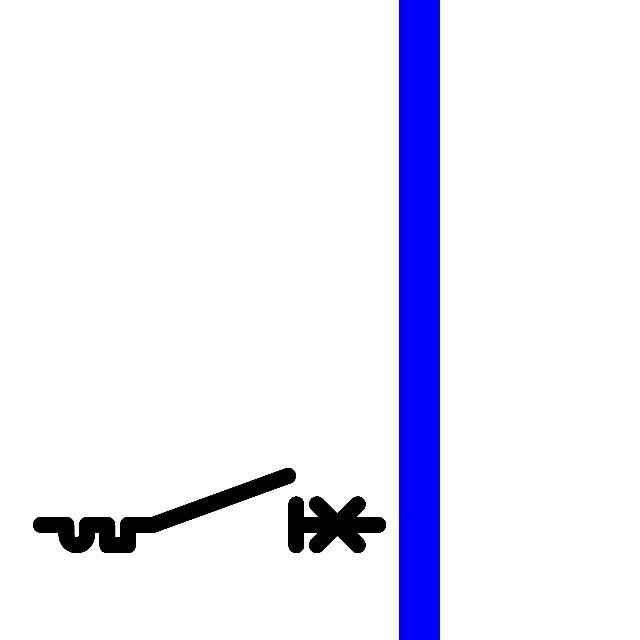interruptor_termomagnetico: (32, 467, 386, 554)
